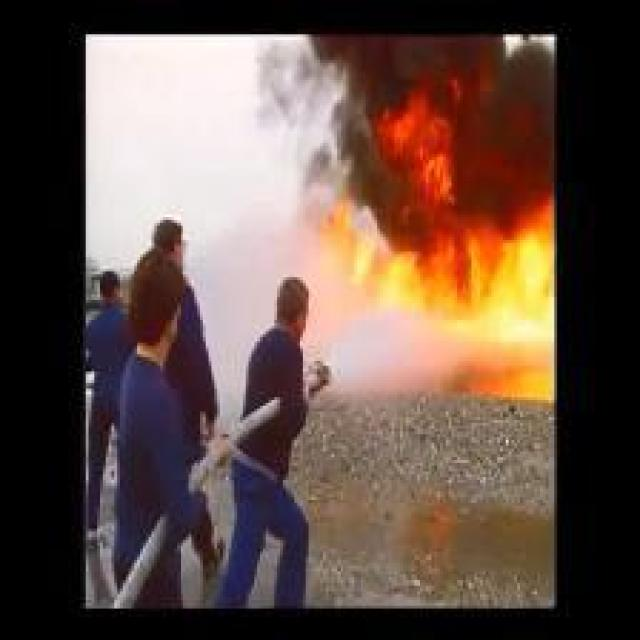fire: (314, 85, 554, 378)
smoke: (270, 35, 554, 161)
